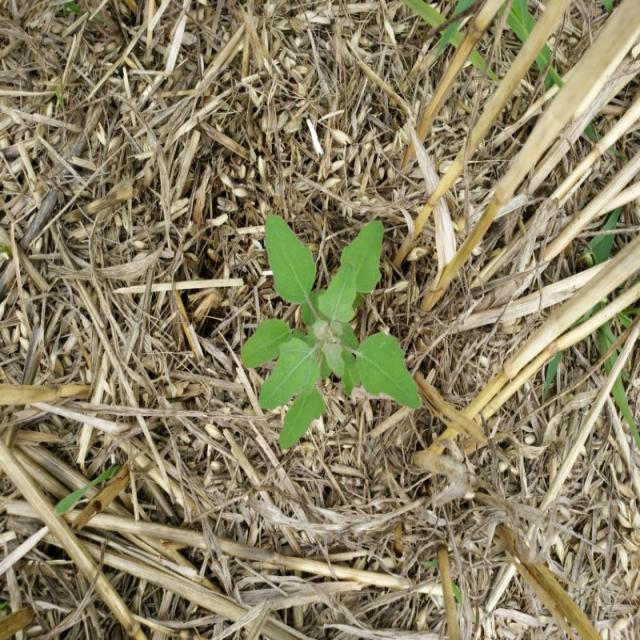ca: (238, 210, 428, 453)
